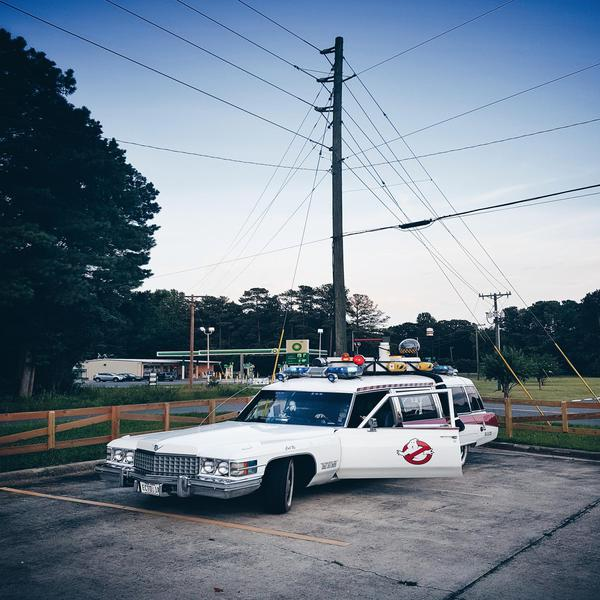utility_pole: (303, 30, 362, 134), (475, 284, 515, 315)
